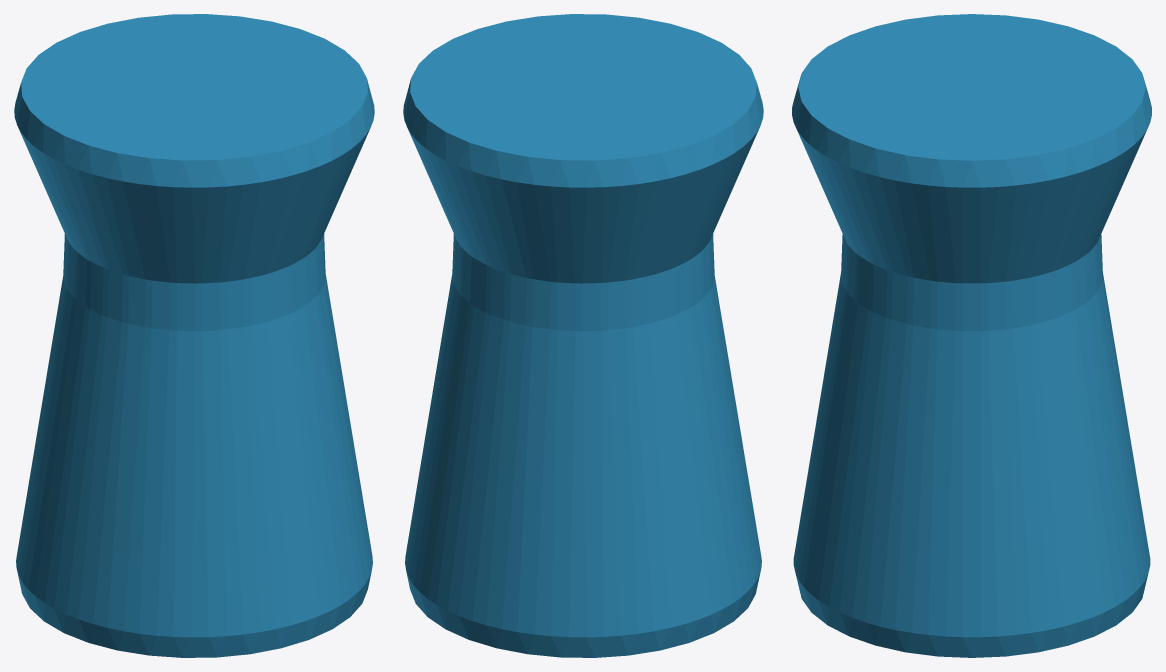
File: token_round_small.fbx
3 views of the same model, side by side, from view 1: azimuth 30°, elevation 25°; view 2: azimuth 150°, elevation 25°; view 3: azimuth 270°, elevation 25° (orthographic).
Visible parts, largest first — view 1: token_round_small_1; view 2: token_round_small_1; view 3: token_round_small_1.
Part boxes in pixels (left/top/right/bottom): token_round_small_1: left=14, top=14, right=374, bottom=657; token_round_small_1: left=403, top=14, right=763, bottom=657; token_round_small_1: left=792, top=14, right=1151, bottom=657.
Size of the model in its own units: 197 by 300 by 197.
